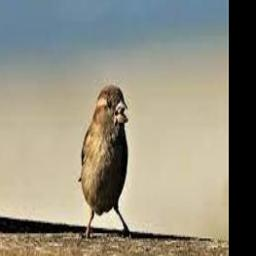Sparrow: (79, 84, 131, 237)
